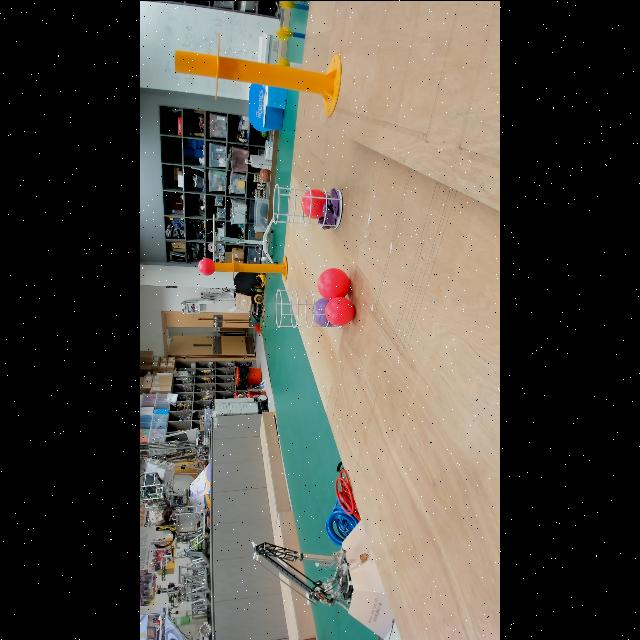P: (312, 294, 344, 328)
R: (315, 266, 353, 300), (323, 294, 357, 328), (300, 186, 330, 220), (194, 255, 218, 277)
S: (272, 182, 344, 228), (276, 287, 344, 329)
